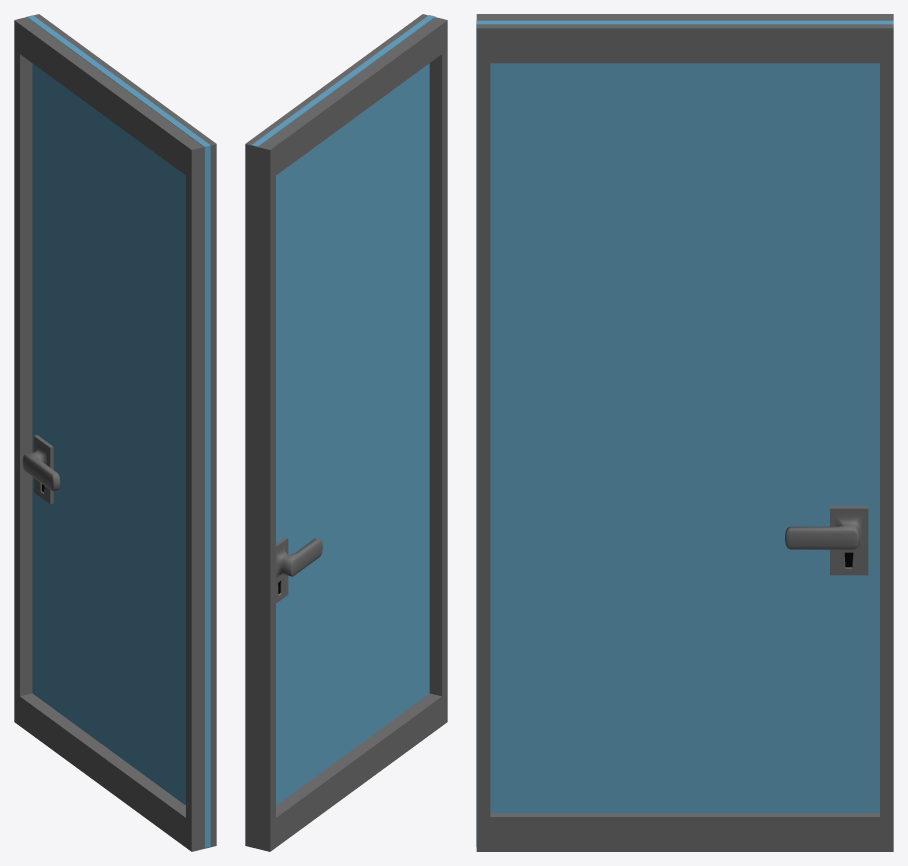
Rendered from door.fbx.
3 views of the same model, side by side, from view 1: azimuth 30°, elevation 25°; view 2: azimuth 150°, elevation 25°; view 3: azimuth 270°, elevation 25° (orthographic). The views are drawn at different scales.
Parts seen in each view (by area): view 1: Rectangle178.003, Rectangle177.003, Cube.001; view 2: Rectangle178.003, Rectangle177.003, Cube.001; view 3: Rectangle178.003, Rectangle177.003, Cube.
Boxes of the visible parts, x1=… form: Rectangle178.003: x1=27, y1=15, x2=210, y2=847; Rectangle177.003: x1=14, y1=14, x2=216, y2=851; Cube.001: x1=22, y1=435, x2=60, y2=504; Rectangle178.003: x1=251, y1=15, x2=435, y2=805; Rectangle177.003: x1=245, y1=14, x2=447, y2=851; Cube.001: x1=276, y1=537, x2=322, y2=603; Rectangle178.003: x1=476, y1=20, x2=893, y2=846; Rectangle177.003: x1=476, y1=14, x2=893, y2=851; Cube: x1=785, y1=506, x2=868, y2=575.
Size of what is drawn, in the model's own units: 18.82 by 268 by 123.
